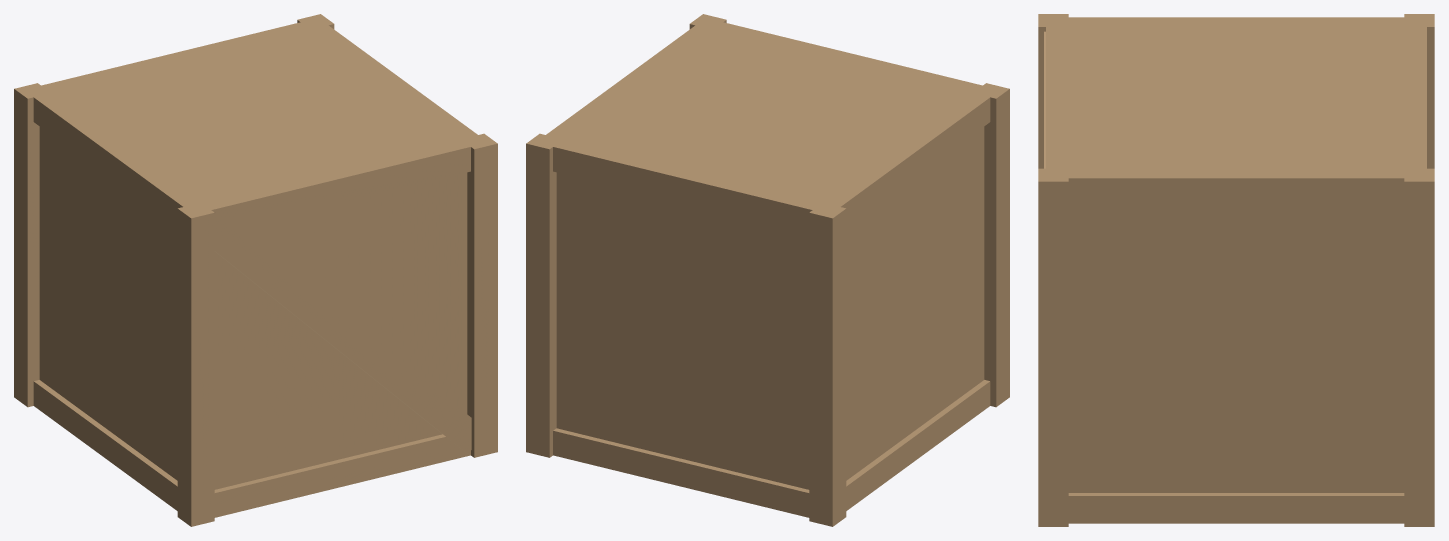
File: crate.glb
3 renders of one model, left to right at view 1: azimuth 30°, elevation 25°; view 2: azimuth 150°, elevation 25°; view 3: azimuth 270°, elevation 25°, orthographic. The views are drawn at different scales.
Visible parts, largest first — view 1: crate; view 2: crate; view 3: crate.
Boxes of the visible parts, x1,y1,x2,y2 form: crate: (14, 14, 497, 526); crate: (526, 14, 1009, 526); crate: (1038, 14, 1434, 526).
Bounding box in the file's own units: 1.04 × 1 × 1.04.
